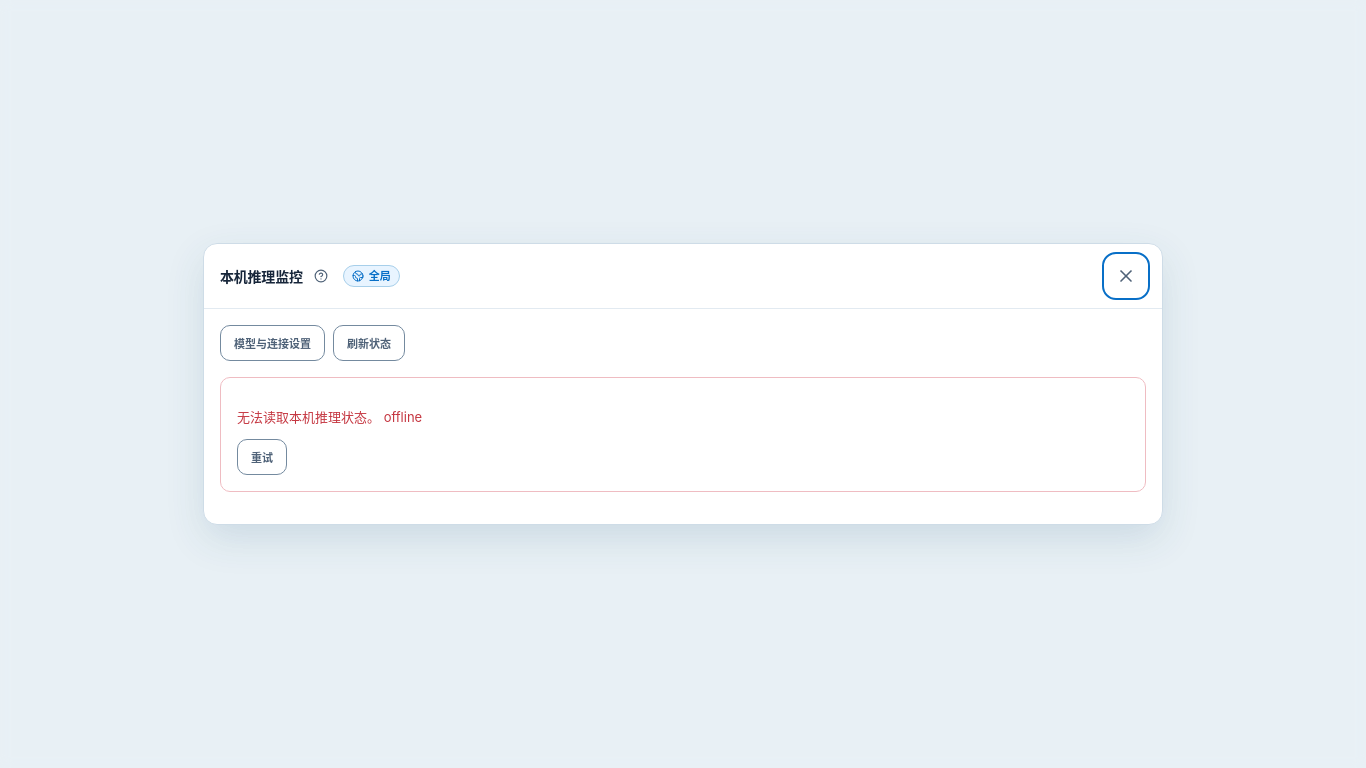
it: LocalInferencePage › recovers from initial load failure and does not stop anything on unmount
The width and height of the screenshot is (1366, 768).
Check: the message shows "offline", box [384,409,422,425]
What coordinates should you click on to do the following:
click the button "重试"
I would click on:
 (262, 457)
Its box is [237,439,287,475].
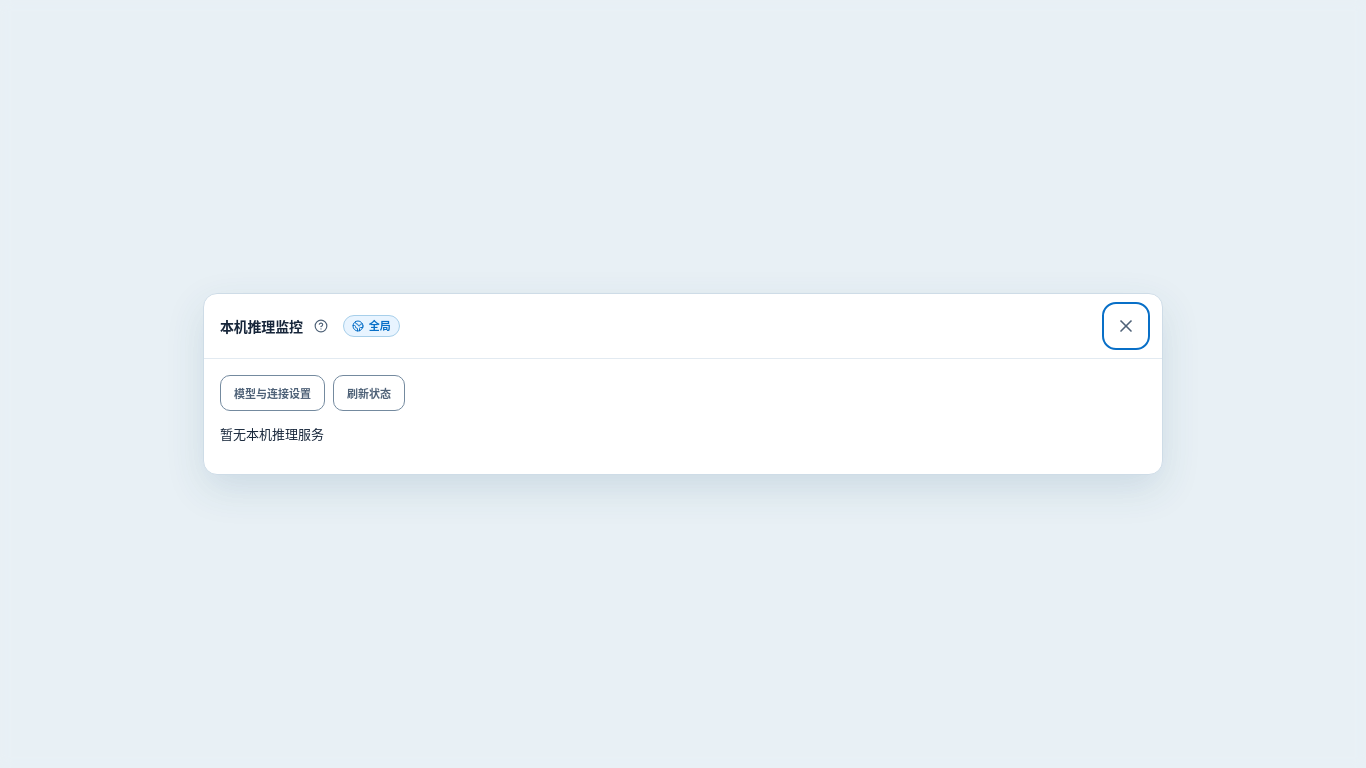
Check: the text "暂无本机推理服务" is shown, box [220,426,324,442]
